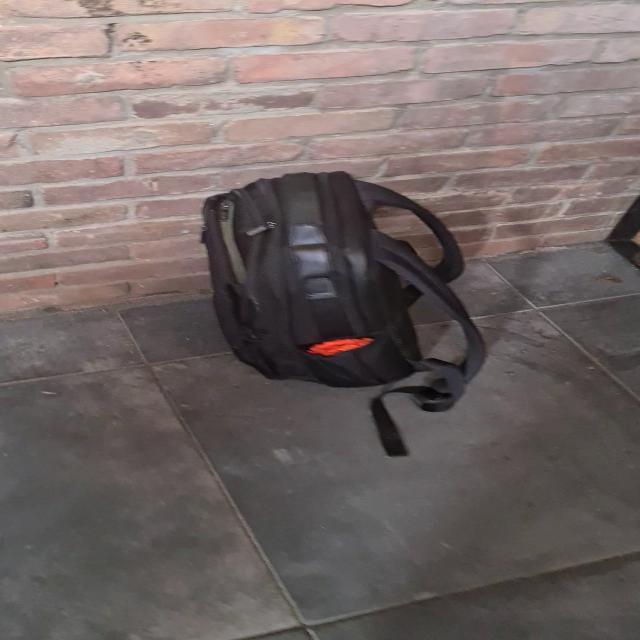backpack: (186, 160, 474, 401)
